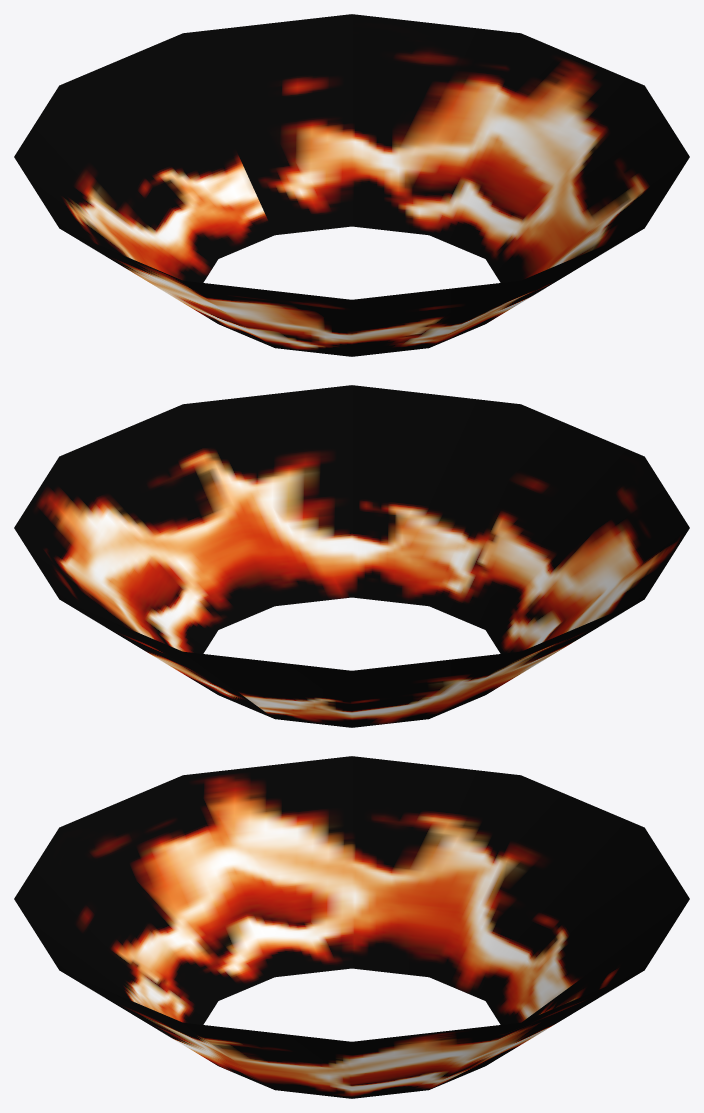
Rendered from fbx_skill_x_102_staff_skill_1.FBX.
3 views of the same model, one above another, from view 1: azimuth 30°, elevation 25°; view 2: azimuth 150°, elevation 25°; view 3: azimuth 270°, elevation 25° (orthographic).
Visible parts, largest first — view 1: Cylinder001; view 2: Cylinder001; view 3: Cylinder001.
Boxes of the visible parts, bbox=[...] form: Cylinder001: bbox=[14, 14, 689, 356]; Cylinder001: bbox=[14, 385, 689, 727]; Cylinder001: bbox=[14, 756, 689, 1098].
Bounding box in the file's own units: 379 × 379 × 83.25.
Materials: 1 (1 with a texture image).
